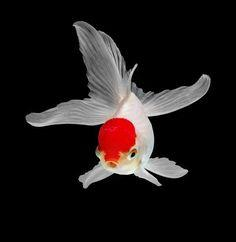goldfish: (60, 62, 202, 198)
